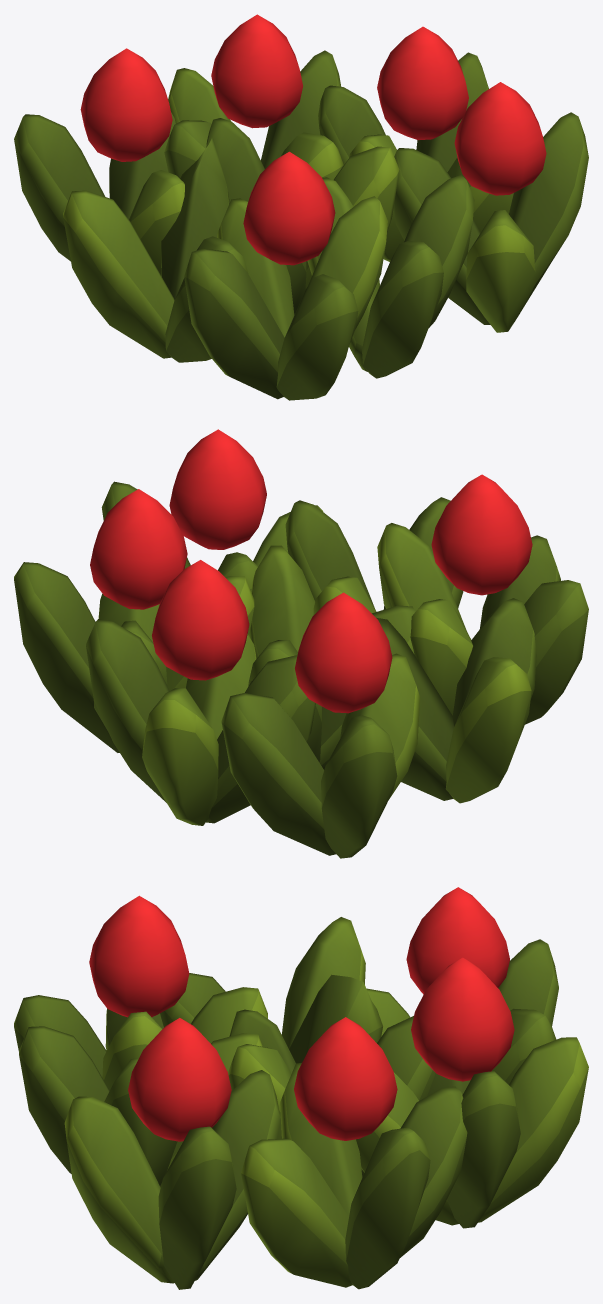
Rendered from grass_tulip_flower_red_LOD_group.fbx.
3 renders of one model, top to bottom at view 1: azimuth 30°, elevation 25°; view 2: azimuth 150°, elevation 25°; view 3: azimuth 270°, elevation 25°, orthographic. The views are drawn at different scales.
Parts seen in each view (by area): view 1: grass_tulip_flower_red_LOD0; view 2: grass_tulip_flower_red_LOD0; view 3: grass_tulip_flower_red_LOD0.
Boxes of the visible parts, <box> form: grass_tulip_flower_red_LOD0: <box>14,14,588,400</box>; grass_tulip_flower_red_LOD0: <box>14,429,588,858</box>; grass_tulip_flower_red_LOD0: <box>14,887,588,1289</box>.
Size of what is drawn, in the model's own units: 111 by 56.39 by 111.
Materials: 1 (1 with a texture image).
